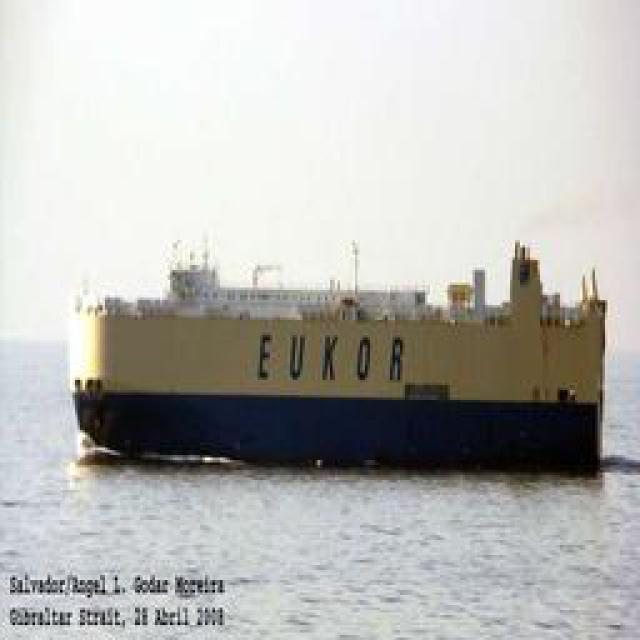Ship: (61, 245, 606, 480)
